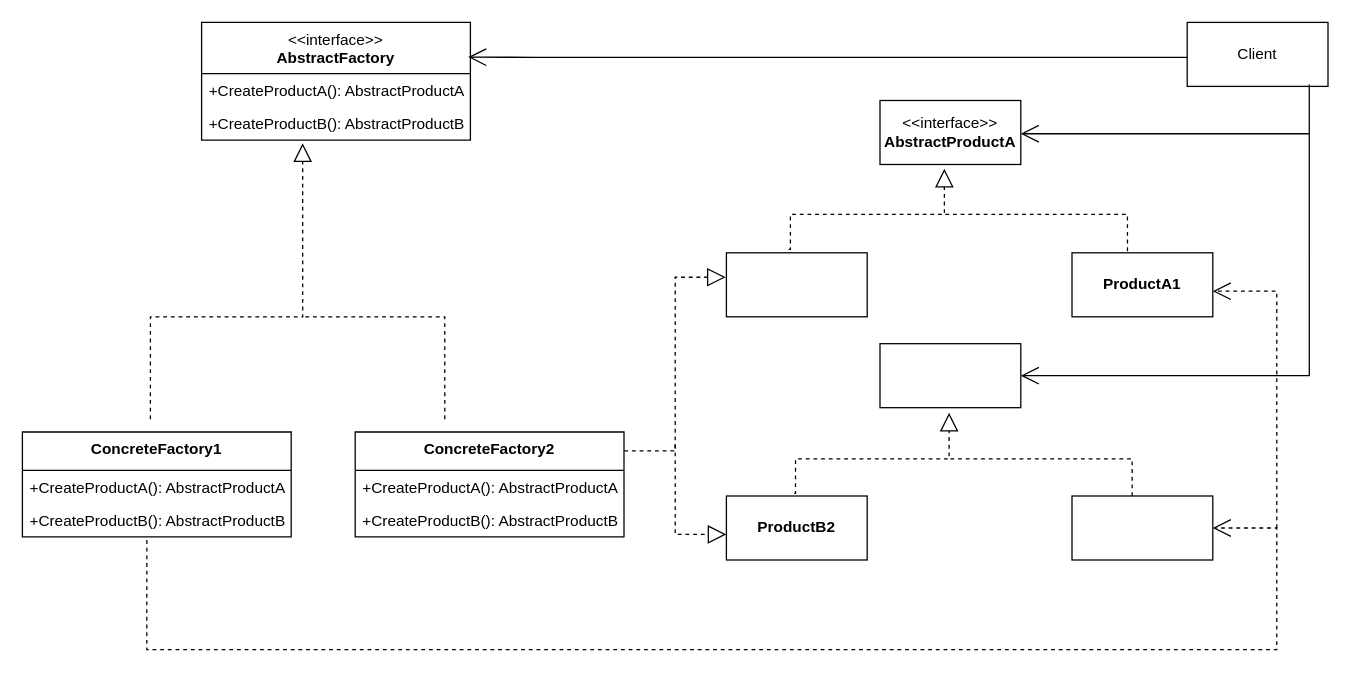
This 1350x690 diagram has some shape labels left out. Each missing label, with the box of its shape:
<<interface>> AbstractProductB: (879, 342, 1021, 408)
ProductA2: (725, 252, 867, 317)
ProductB1: (1071, 495, 1213, 560)
